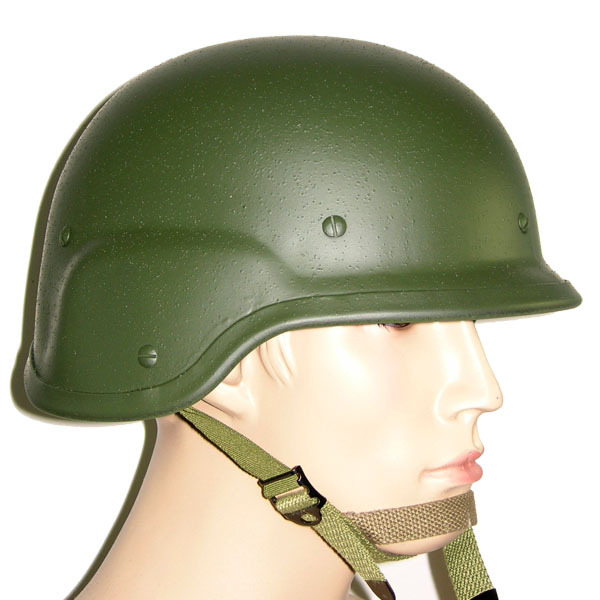Helmet: (7, 30, 591, 435)
